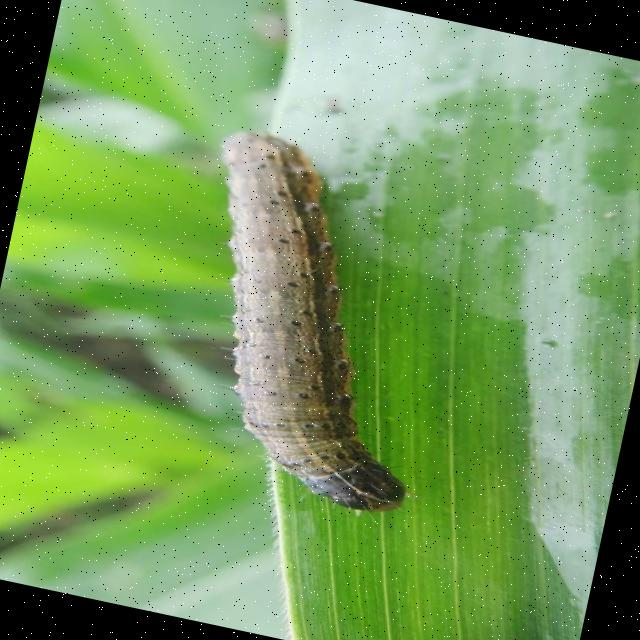worm: (127, 102, 521, 545)
